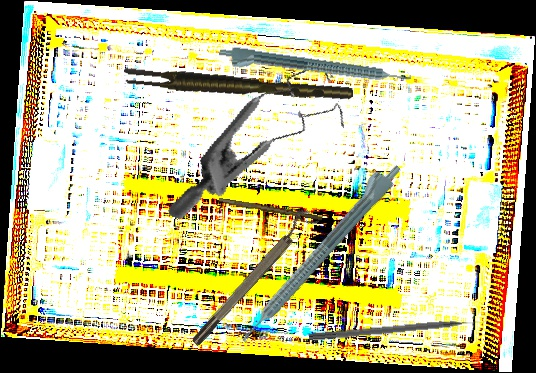Fixation Ring: (183, 205, 320, 349)
Handpiece: (229, 155, 406, 347), (217, 44, 412, 94)
Pusher: (308, 317, 490, 343)
Scalpel Handle: (218, 197, 323, 222)
Speculum: (165, 31, 362, 261)
Tissue Forceps: (122, 60, 354, 112)
